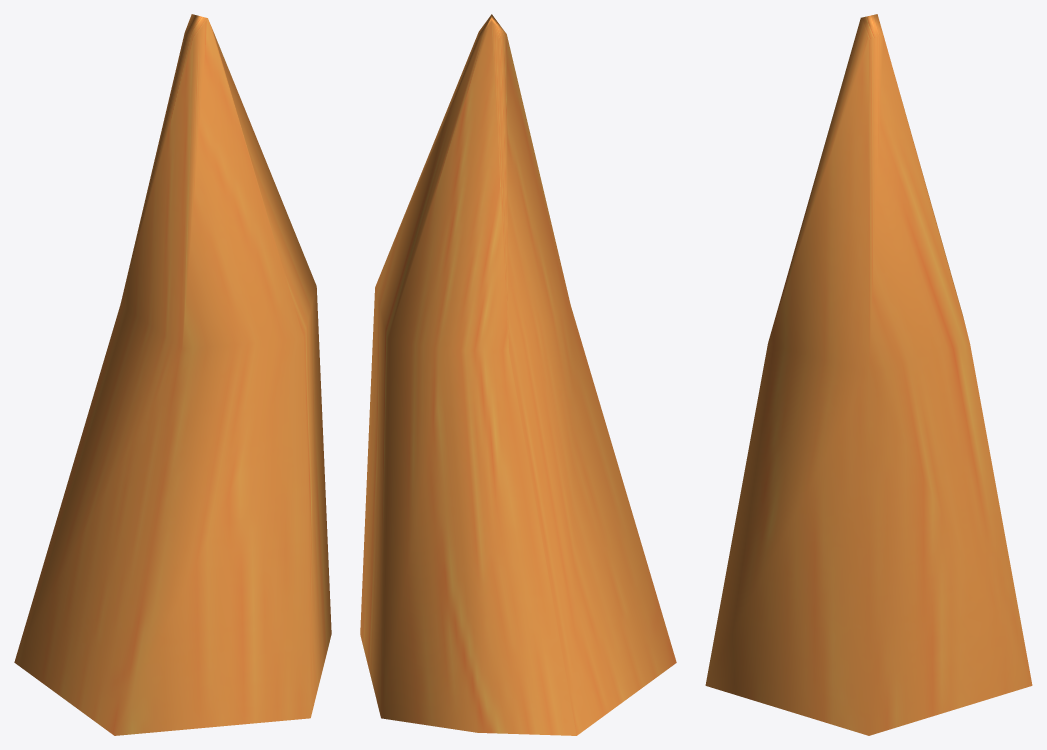
File: Prop_bigTooth_01.fbx
3 renders of one model, left to right at view 1: azimuth 30°, elevation 25°; view 2: azimuth 150°, elevation 25°; view 3: azimuth 270°, elevation 25°, orthographic.
Parts seen in each view (by area): view 1: Prop_bigTooth_01; view 2: Prop_bigTooth_01; view 3: Prop_bigTooth_01.
Boxes of the visible parts, x1=… form: Prop_bigTooth_01: x1=14, y1=14, x2=331, y2=735; Prop_bigTooth_01: x1=360, y1=14, x2=676, y2=735; Prop_bigTooth_01: x1=705, y1=14, x2=1032, y2=735.
Size of the model in its own units: 57.16 by 133 by 60.1.
Materials: 1 (1 with a texture image).
